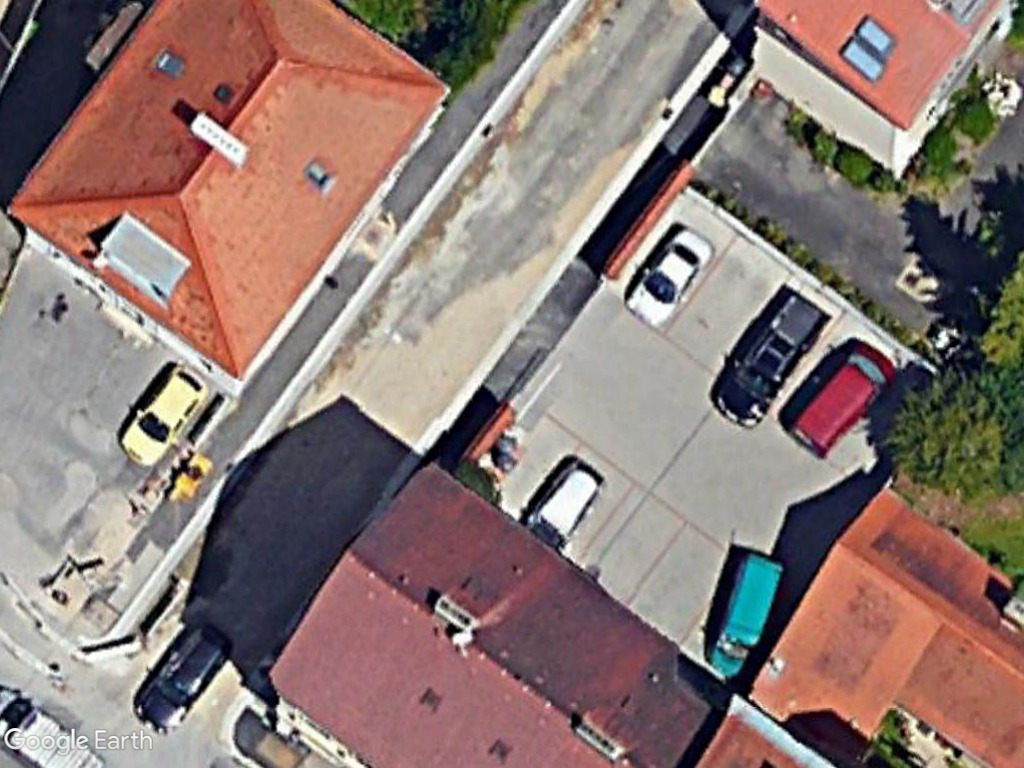car: (130, 616, 235, 740), (112, 360, 208, 474), (618, 226, 715, 331)
van: (784, 340, 896, 461), (701, 548, 797, 684)
